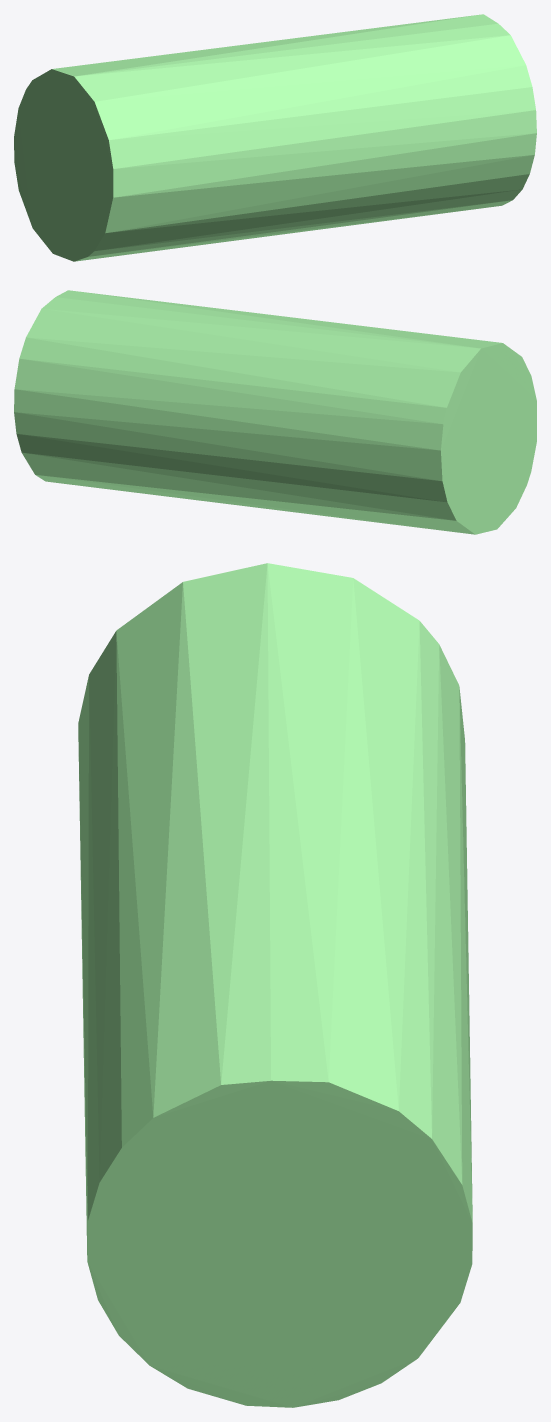
Rendered from UMIRobot_UMIRobot_link_5_convex_coll_3.dae.
3 views of the same model, one above another, from view 1: azimuth 30°, elevation 25°; view 2: azimuth 150°, elevation 25°; view 3: azimuth 270°, elevation 25° (orthographic). The views are drawn at different scales.
Visible parts, largest first — view 1: node; view 2: node; view 3: node.
Boxes of the visible parts, bbox=[...] form: node: bbox=[14, 14, 536, 261]; node: bbox=[14, 290, 536, 534]; node: bbox=[78, 563, 472, 1407].
Size of the model in its own units: 0.014 by 0.00676 by 0.00539.
